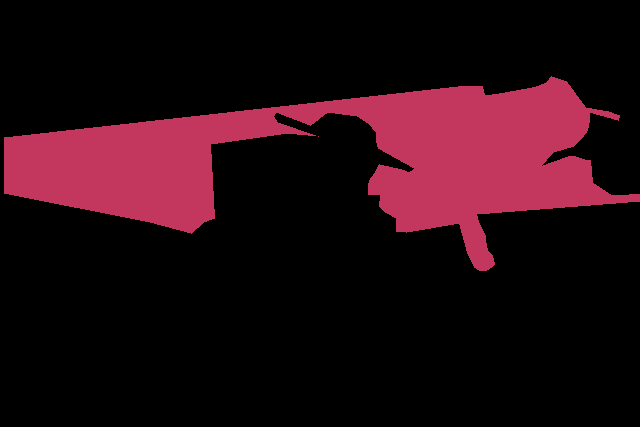Airplane: (4, 76, 640, 270)
